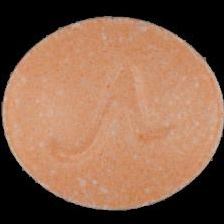53808-0926: (0, 0, 224, 224)
